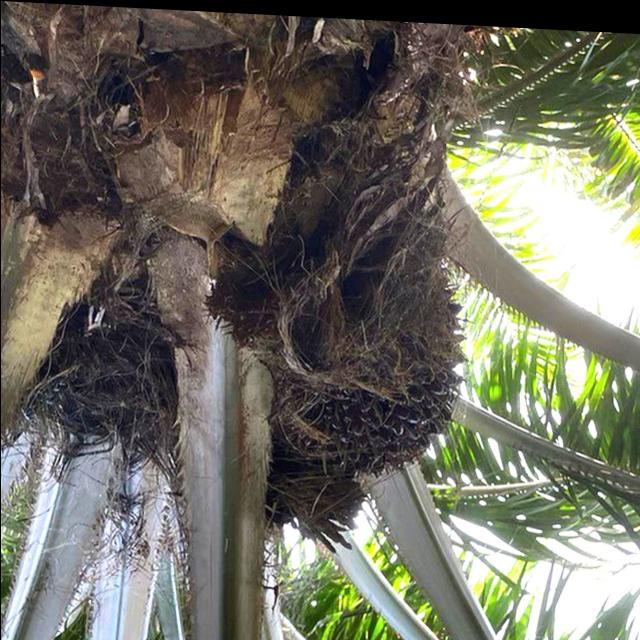ripe: (253, 181, 478, 484)
